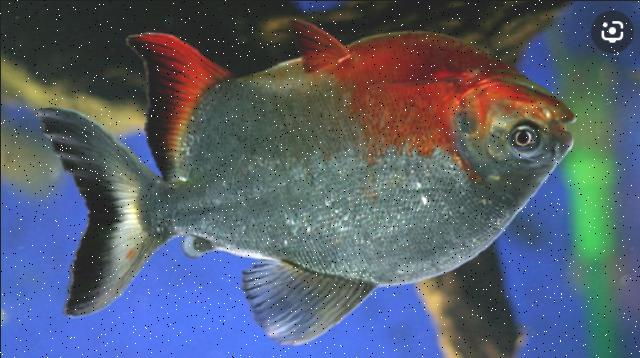Mulut: (540, 87, 596, 163)
Sirip Anal: (108, 11, 230, 187)
Sirip Ekor: (7, 98, 160, 327)
Sirip Perut: (264, 2, 360, 84)
Sirip Punggung: (225, 239, 381, 353)
